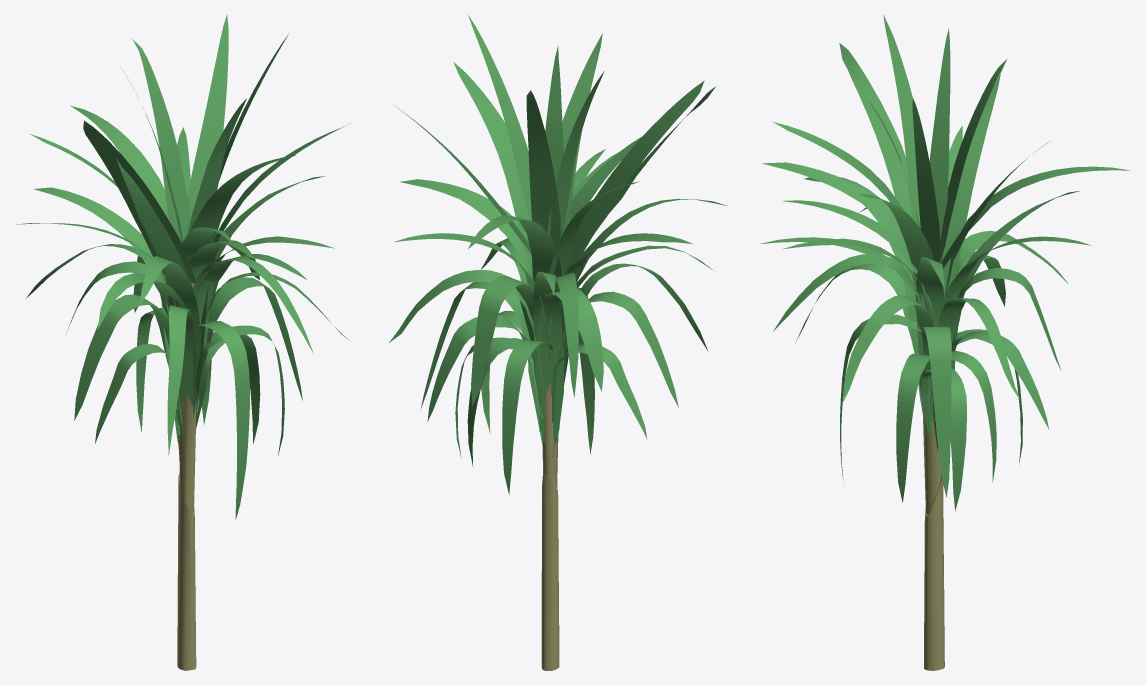
Rendered from plant_yucca_A.fbx.
The picture shows the model from 3 angles, left to right: view 1: azimuth 30°, elevation 25°; view 2: azimuth 150°, elevation 25°; view 3: azimuth 270°, elevation 25°; orthographic projection.
Parts seen in each view (by area): view 1: trunk_plant_yucca_A, plant_yucca_A_leaf_10, plant_yucca_A_leaf_43, plant_yucca_A_leaf_14, plant_yucca_A_leaf_13, plant_yucca_A_leaf_34, plant_yucca_A_leaf_42, plant_yucca_A_leaf_26, plant_yucca_A_leaf_41, plant_yucca_A_leaf_30, plant_yucca_A_leaf_12, plant_yucca_A_leaf_27 (+18 smaller); view 2: trunk_plant_yucca_A, plant_yucca_A_leaf_13, plant_yucca_A_leaf_24, plant_yucca_A_leaf_10, plant_yucca_A_leaf_31, plant_yucca_A_leaf_17, plant_yucca_A_leaf_38, plant_yucca_A_leaf_11, plant_yucca_A_leaf_26, plant_yucca_A_leaf_32, plant_yucca_A_leaf_42, plant_yucca_A_leaf_25 (+21 smaller); view 3: trunk_plant_yucca_A, plant_yucca_A_leaf_30, plant_yucca_A_leaf_12, plant_yucca_A_leaf_09, plant_yucca_A_leaf_16, plant_yucca_A_leaf_35, plant_yucca_A_leaf_45, plant_yucca_A_leaf_13, plant_yucca_A_leaf_11, plant_yucca_A_leaf_28, plant_yucca_A_leaf_19, plant_yucca_A_leaf_29 (+19 smaller).
Boxes of the visible parts, box(x1,y1,x2,y2) form: trunk_plant_yucca_A: box(177, 282, 196, 670); plant_yucca_A_leaf_10: box(132, 39, 190, 243); plant_yucca_A_leaf_43: box(167, 305, 194, 455); plant_yucca_A_leaf_14: box(187, 14, 228, 217); plant_yucca_A_leaf_13: box(83, 120, 195, 283); plant_yucca_A_leaf_34: box(196, 321, 249, 519); plant_yucca_A_leaf_42: box(74, 294, 169, 420); plant_yucca_A_leaf_26: box(70, 105, 177, 408); plant_yucca_A_leaf_41: box(140, 256, 201, 371); plant_yucca_A_leaf_30: box(200, 277, 302, 400); plant_yucca_A_leaf_12: box(117, 159, 188, 277); plant_yucca_A_leaf_27: box(182, 257, 313, 424); trunk_plant_yucca_A: box(541, 383, 559, 670); plant_yucca_A_leaf_13: box(563, 80, 704, 275); plant_yucca_A_leaf_24: box(533, 271, 563, 443); plant_yucca_A_leaf_10: box(526, 90, 560, 248); plant_yucca_A_leaf_31: box(471, 276, 534, 405); plant_yucca_A_leaf_17: box(453, 62, 532, 274); plant_yucca_A_leaf_38: box(502, 340, 555, 495); plant_yucca_A_leaf_11: box(468, 15, 531, 220); plant_yucca_A_leaf_26: box(468, 215, 566, 382); plant_yucca_A_leaf_32: box(537, 289, 603, 391); plant_yucca_A_leaf_42: box(550, 291, 678, 407); plant_yucca_A_leaf_25: box(400, 179, 532, 279); trunk_plant_yucca_A: box(922, 407, 944, 670); plant_yucca_A_leaf_30: box(922, 326, 951, 497); plant_yucca_A_leaf_12: box(839, 43, 911, 216); plant_yucca_A_leaf_09: box(929, 28, 950, 262); plant_yucca_A_leaf_16: box(943, 73, 1000, 298); plant_yucca_A_leaf_35: box(896, 353, 929, 502); plant_yucca_A_leaf_45: box(921, 368, 966, 510); plant_yucca_A_leaf_13: box(883, 15, 920, 228); plant_yucca_A_leaf_11: box(912, 98, 939, 261); plant_yucca_A_leaf_28: box(843, 295, 937, 452); plant_yucca_A_leaf_19: box(761, 162, 925, 307); plant_yucca_A_leaf_29: box(937, 298, 1020, 399).
Size of the model in its own units: 105 by 205 by 113.
